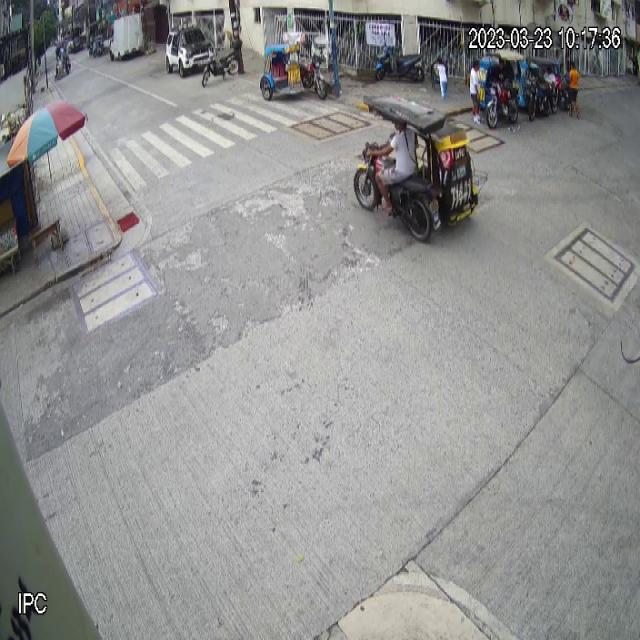Tricycle: (353, 94, 489, 243), (260, 30, 326, 104), (469, 50, 522, 128)
